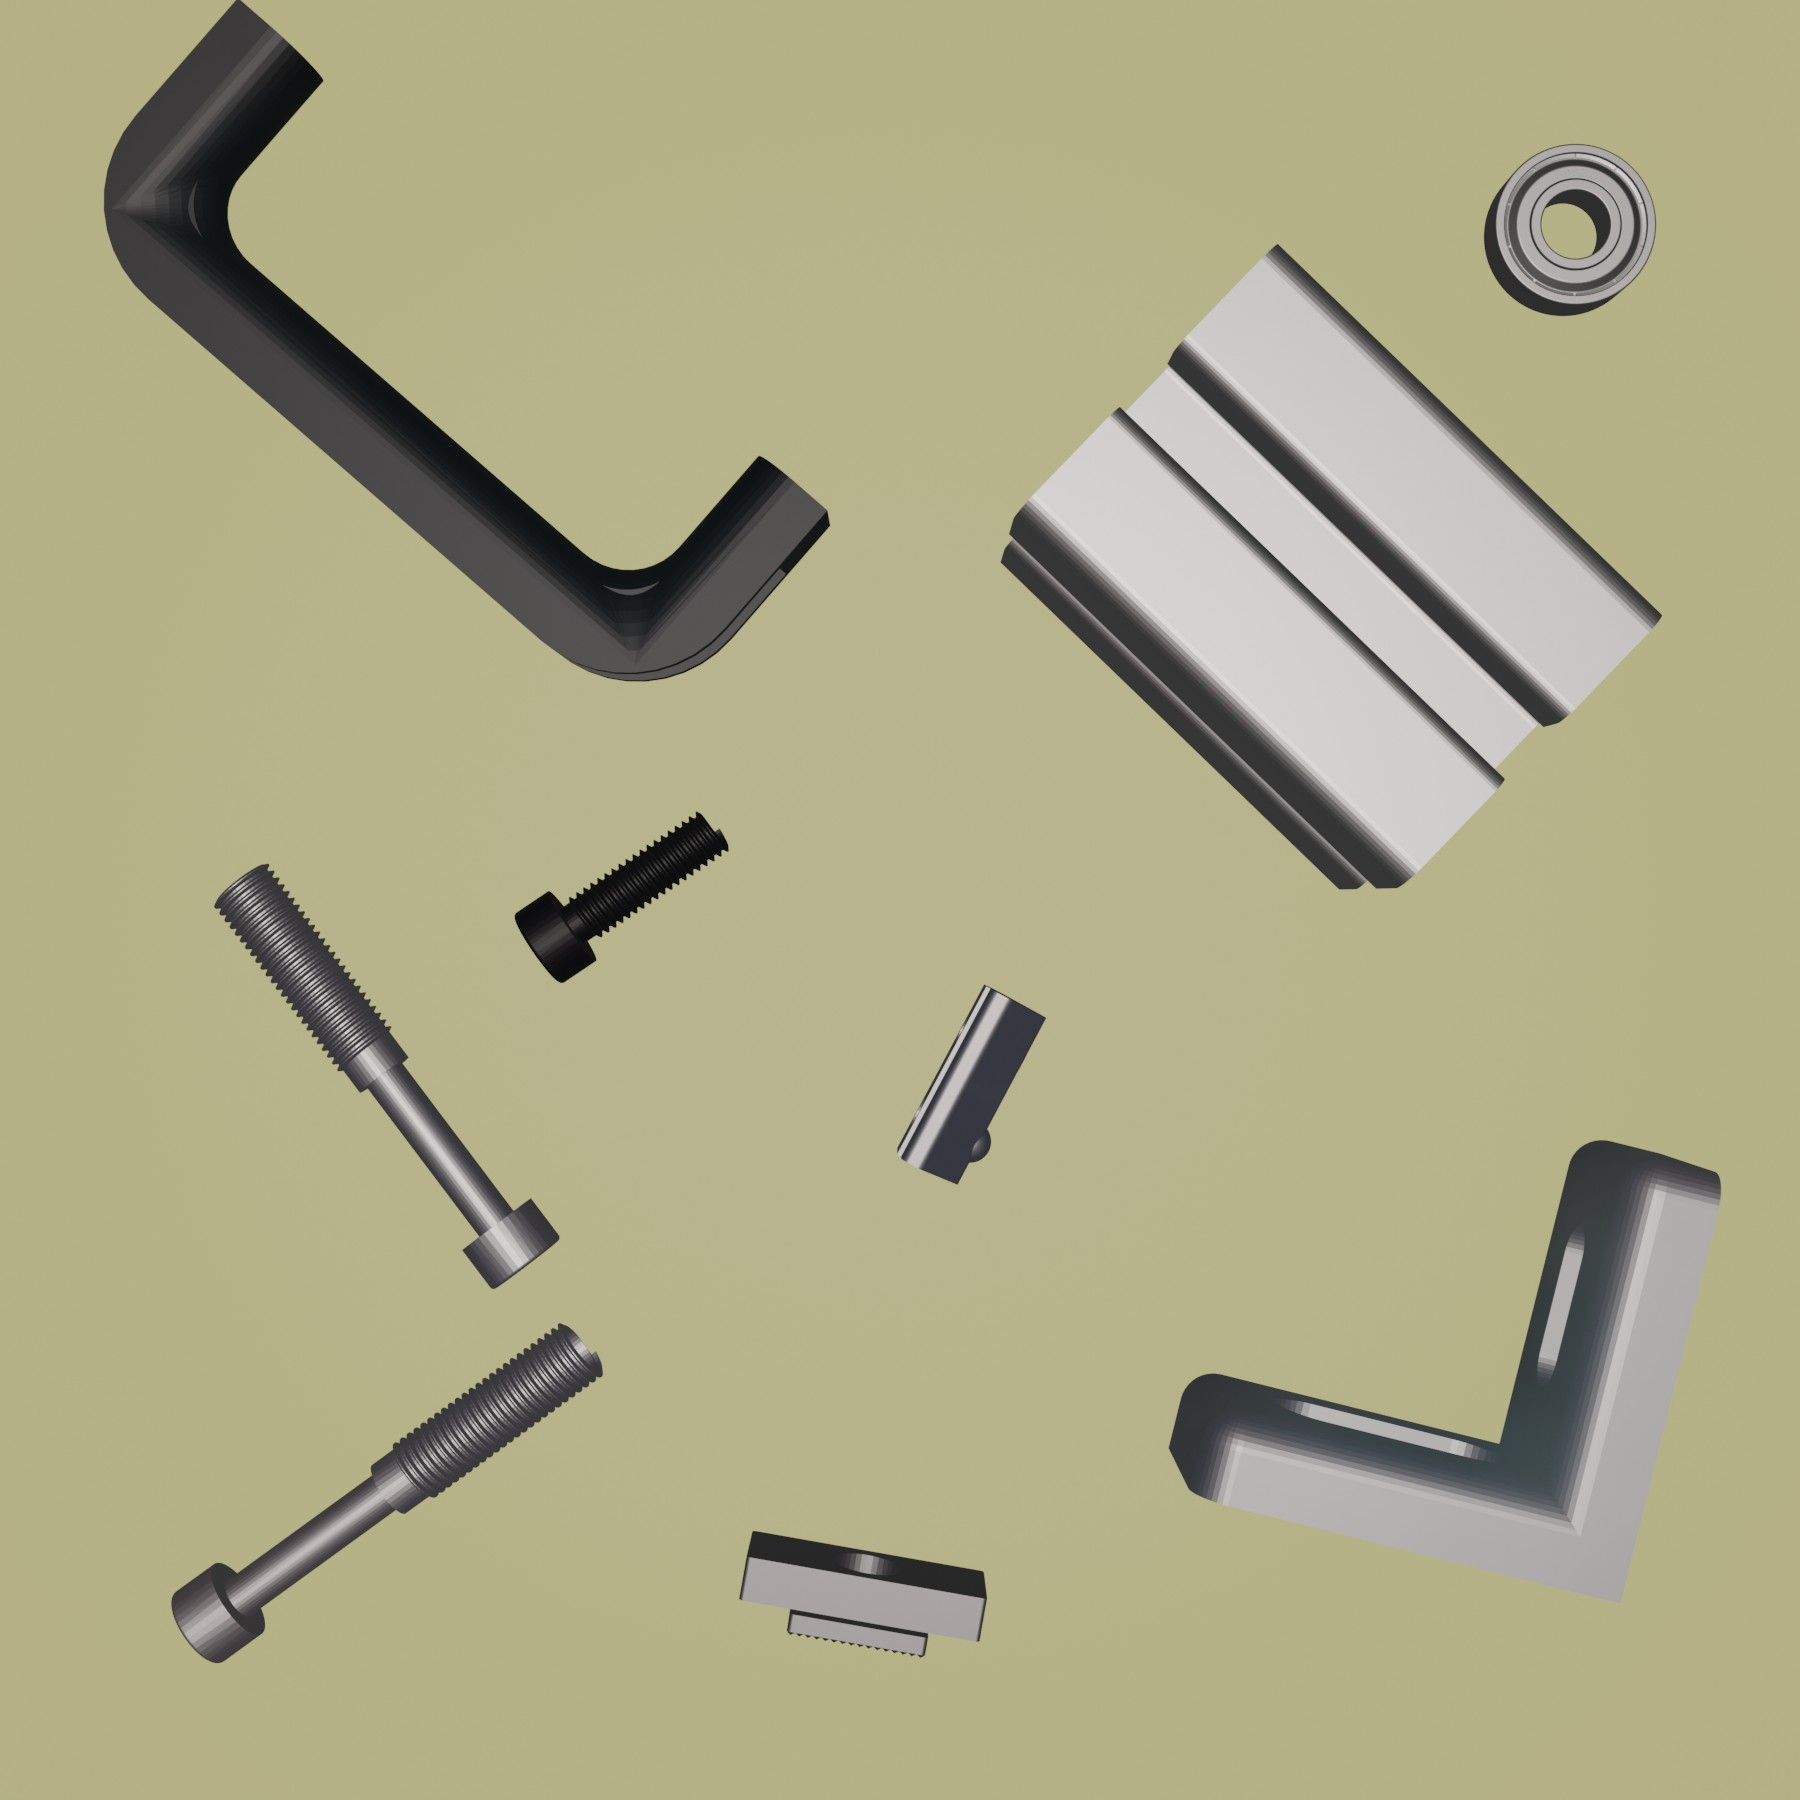Aluminium Extension: (997, 237, 1663, 892)
Ball Bearing: (1480, 142, 1658, 318)
Multiwinkel: (1165, 1136, 1724, 1605)
Pull Handle: (101, 2, 832, 684)
Shoulder Socket Head Cap Screw: (170, 1322, 607, 1665), (213, 860, 560, 1291)
Socket Head Cap Screw: (513, 808, 729, 986)
T Nut Square: (737, 1528, 989, 1662)
T Spring Nut: (893, 981, 1048, 1188)
